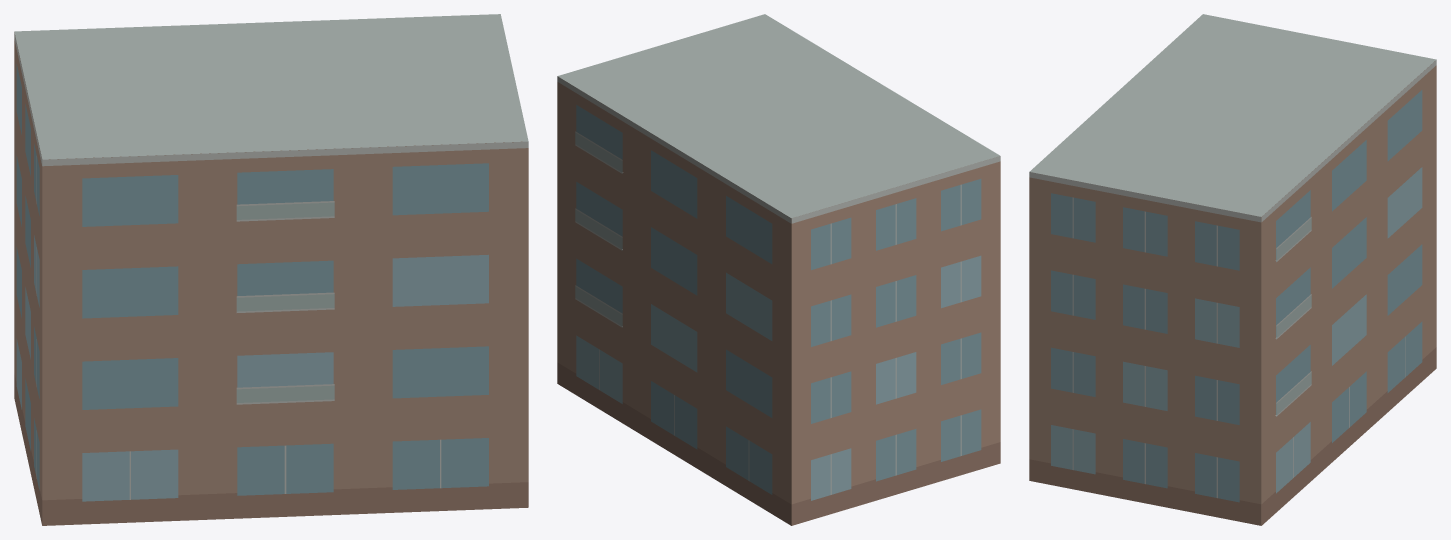
Rendered from survey-upis-32979591.glb.
3 views of the same model, side by side, from view 1: azimuth 30°, elevation 25°; view 2: azimuth 150°, elevation 25°; view 3: azimuth 270°, elevation 25° (orthographic). The views are drawn at different scales.
Parts seen in each view (by area): view 1: survey-upis-32979591.tmp; view 2: survey-upis-32979591.tmp; view 3: survey-upis-32979591.tmp.
Part boxes in pixels (<box>): survey-upis-32979591.tmp: <box>14,14,528,525</box>; survey-upis-32979591.tmp: <box>557,14,1000,525</box>; survey-upis-32979591.tmp: <box>1029,14,1436,525</box>.
Size of the model in its own units: 19.24 by 13.65 by 16.32.
